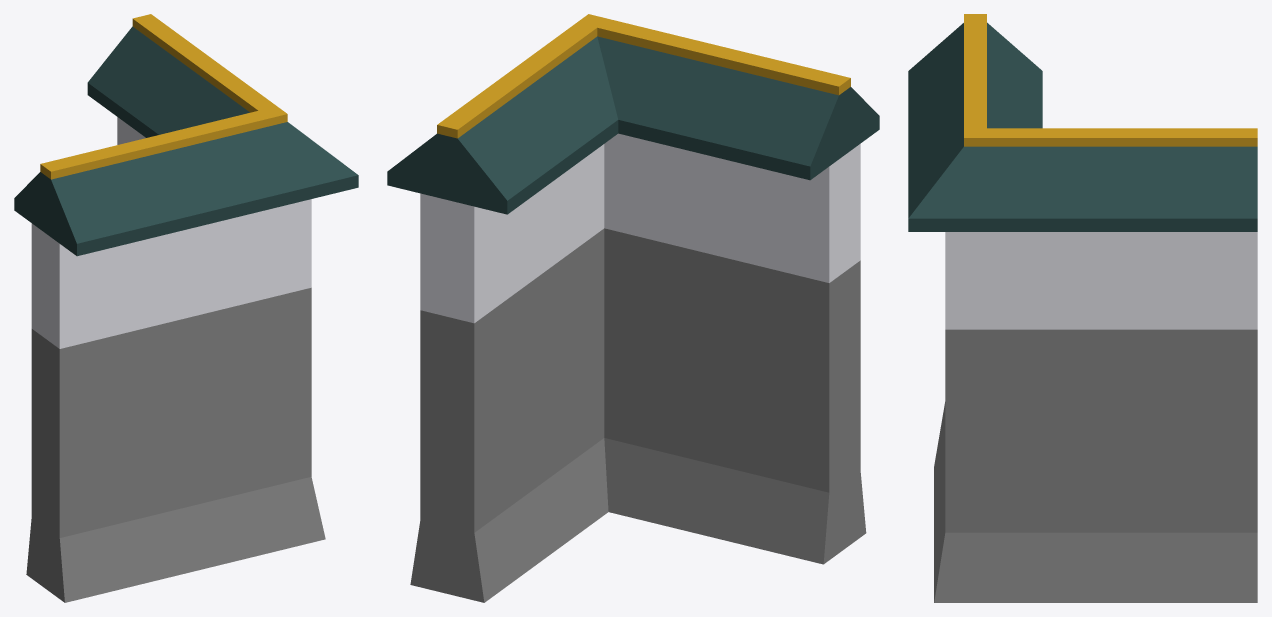
File: Asian_Prop_Building_Fence_Wall_High_Corner_03.FBX
3 renders of one model, left to right at view 1: azimuth 30°, elevation 25°; view 2: azimuth 150°, elevation 25°; view 3: azimuth 270°, elevation 25°, orthographic. The views are drawn at different scales.
Parts seen in each view (by area): view 1: Asian_Prop_Building_Fence_Wall_High_Corner_03; view 2: Asian_Prop_Building_Fence_Wall_High_Corner_03; view 3: Asian_Prop_Building_Fence_Wall_High_Corner_03.
Boxes of the visible parts, <box> form: Asian_Prop_Building_Fence_Wall_High_Corner_03: <box>14,14,358,602</box>; Asian_Prop_Building_Fence_Wall_High_Corner_03: <box>387,14,879,602</box>; Asian_Prop_Building_Fence_Wall_High_Corner_03: <box>908,14,1257,602</box>.
Bounding box in the file's own units: 2890 × 4128 × 2890.
